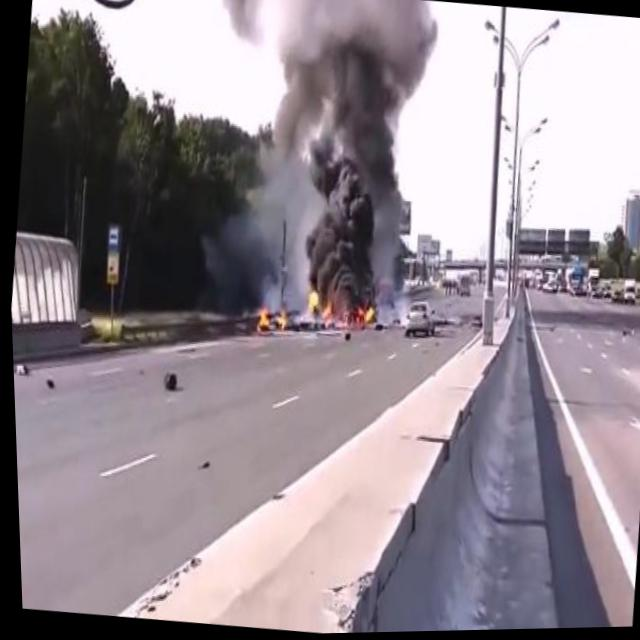fire: (349, 303, 374, 330), (300, 287, 318, 321), (252, 304, 270, 334), (318, 292, 334, 325), (272, 304, 286, 333)
